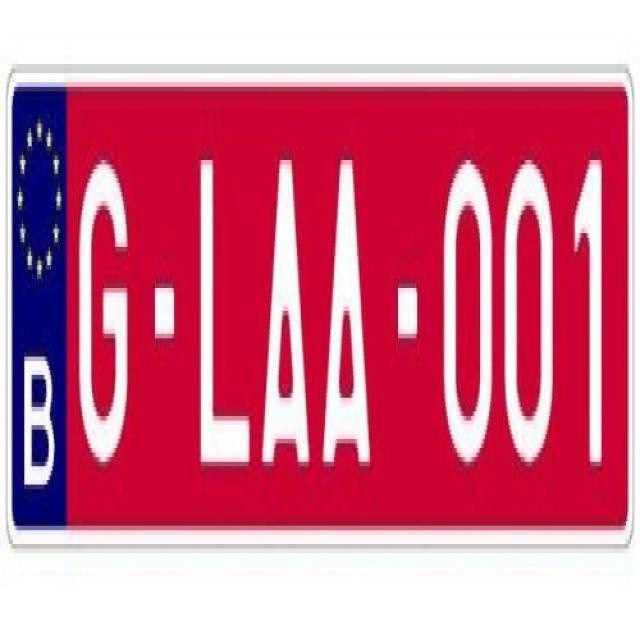licenseplate: (4, 46, 636, 580)
